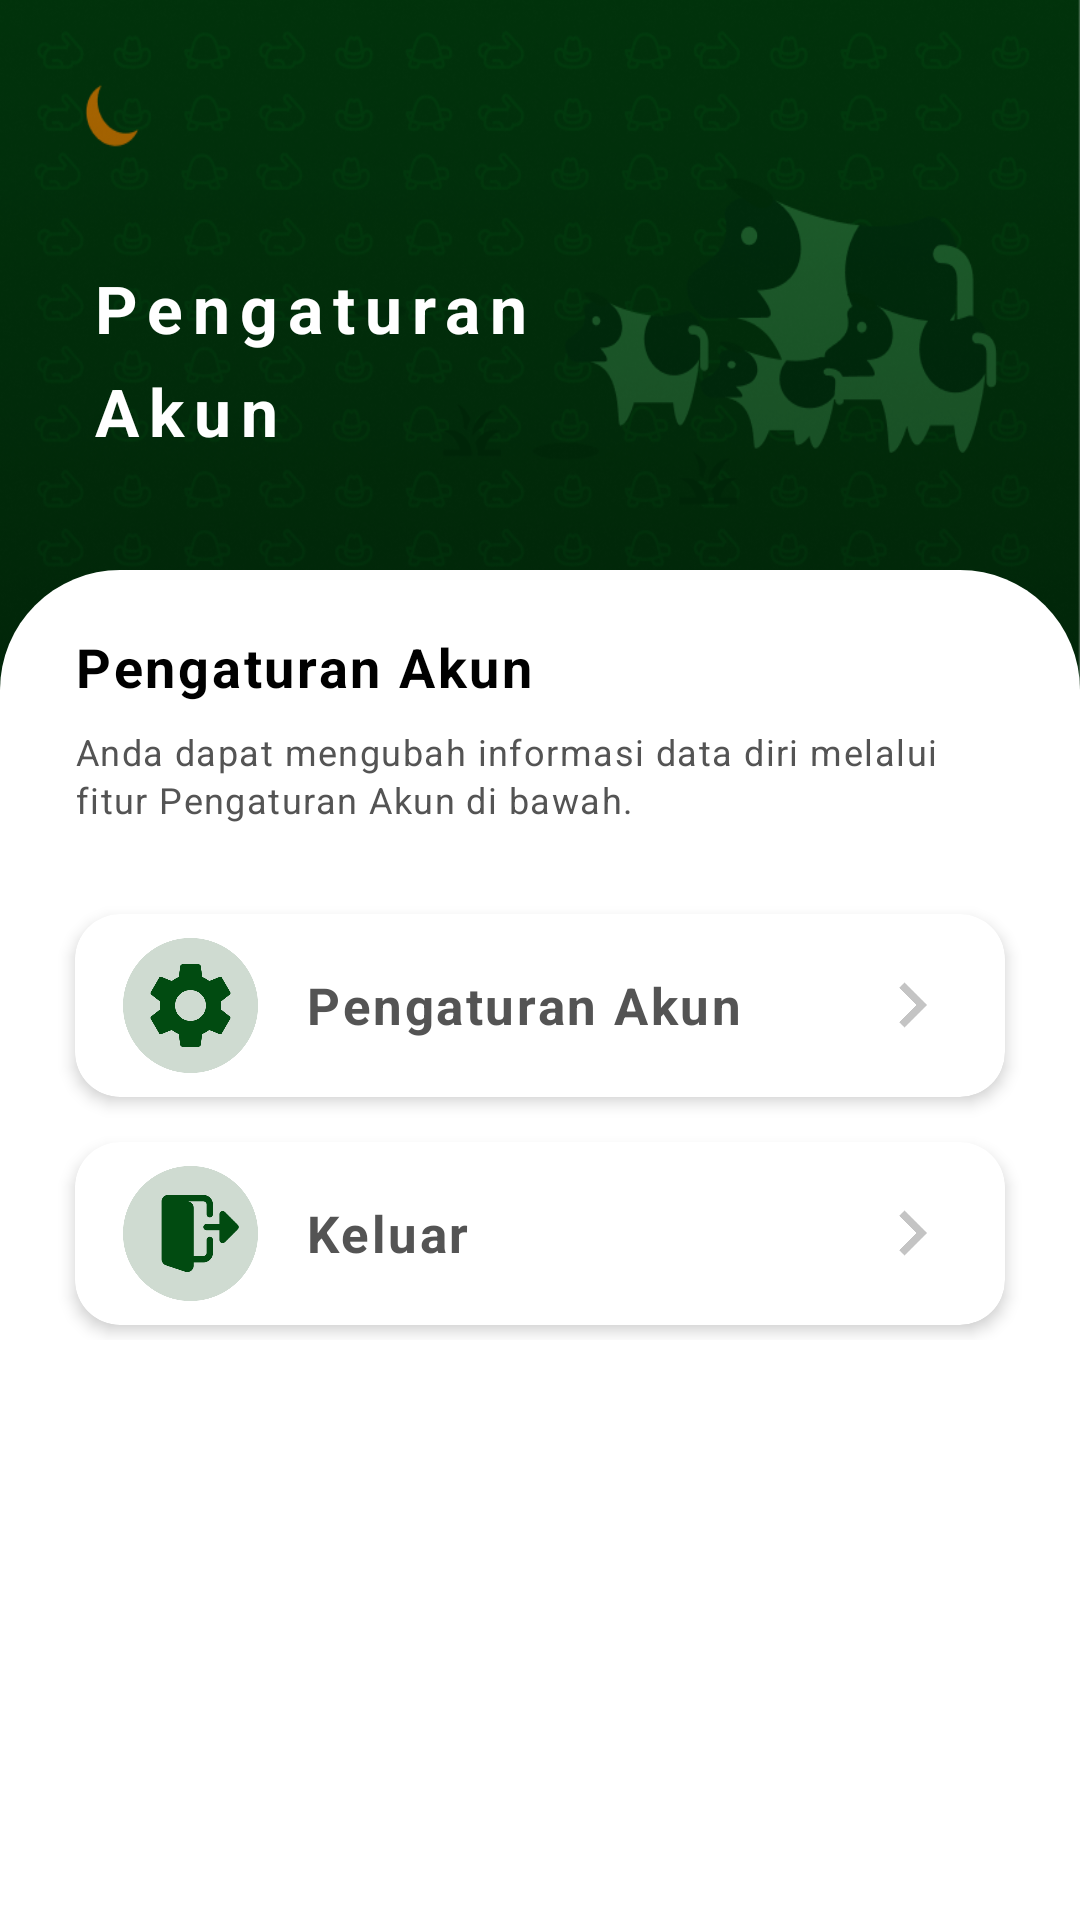

Locate icon controls on the screen. Image size 1080w x 1920h, boxes as BBox(x1, y1, x2, y2).
right: BBox(899, 983, 927, 1027), BBox(899, 1211, 927, 1255)
setting: BBox(123, 938, 258, 1073)
